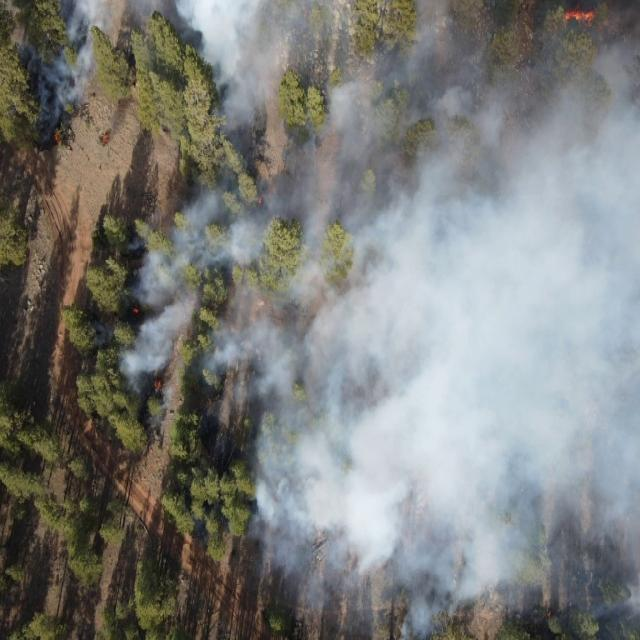fire: (50, 126, 63, 150), (101, 130, 114, 146), (130, 302, 140, 318), (154, 375, 164, 391), (256, 196, 265, 209)
smoke: (170, 0, 640, 640), (19, 0, 124, 112), (130, 210, 167, 389)
